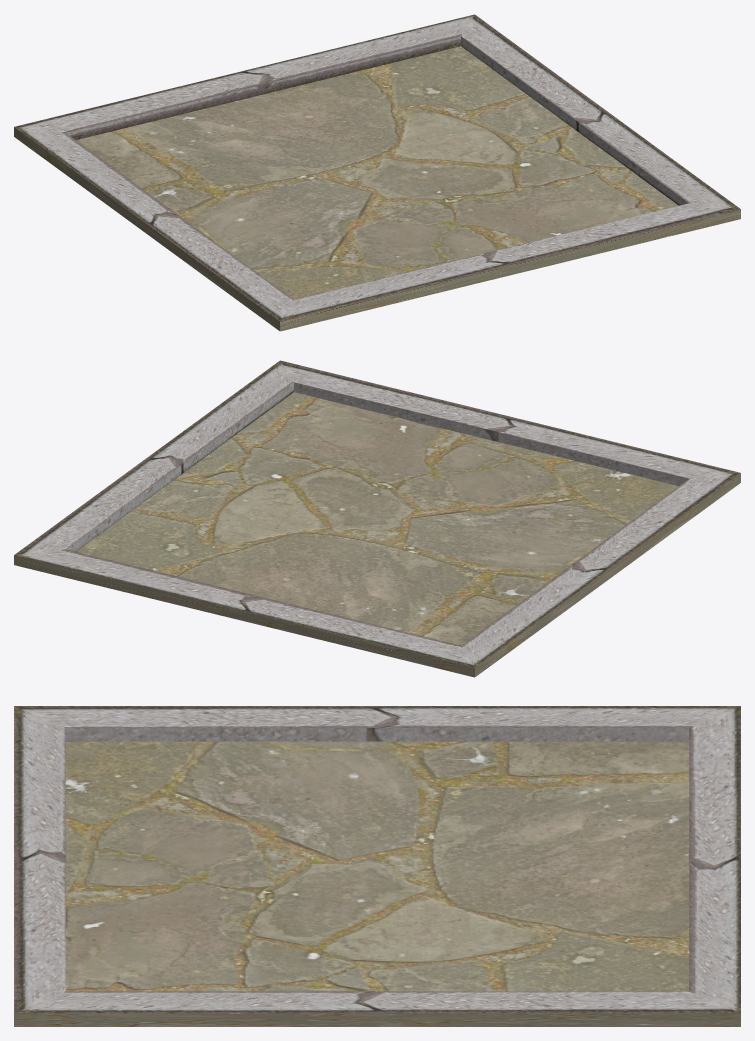
The model's file is treeBottom.fbx.
The picture shows the model from 3 angles, top to bottom: view 1: azimuth 30°, elevation 25°; view 2: azimuth 150°, elevation 25°; view 3: azimuth 270°, elevation 25°; orthographic projection. The views are drawn at different scales.
Parts seen in each view (by area): view 1: TreeBottom; view 2: TreeBottom; view 3: TreeBottom.
Boxes of the visible parts, x1,y1,x2,y2 form: TreeBottom: (14, 14, 740, 331); TreeBottom: (14, 360, 740, 677); TreeBottom: (14, 706, 740, 1026).
Size of the model in its own units: 353 by 7.26 by 353.
